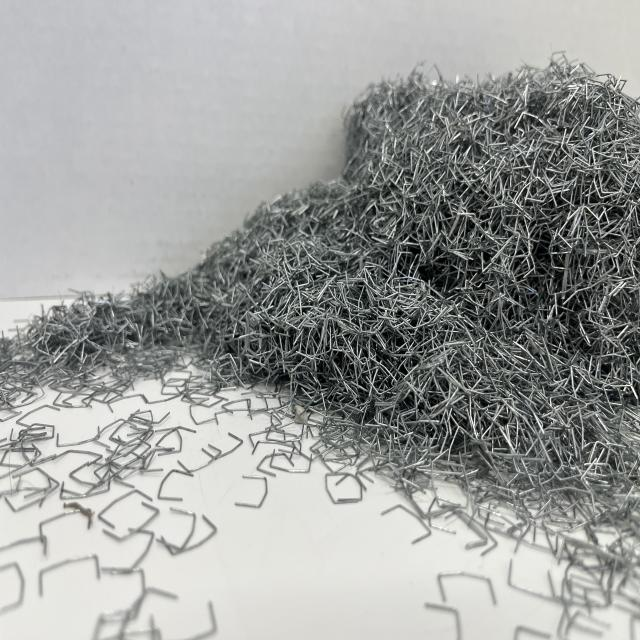staples: (153, 54, 640, 483)
